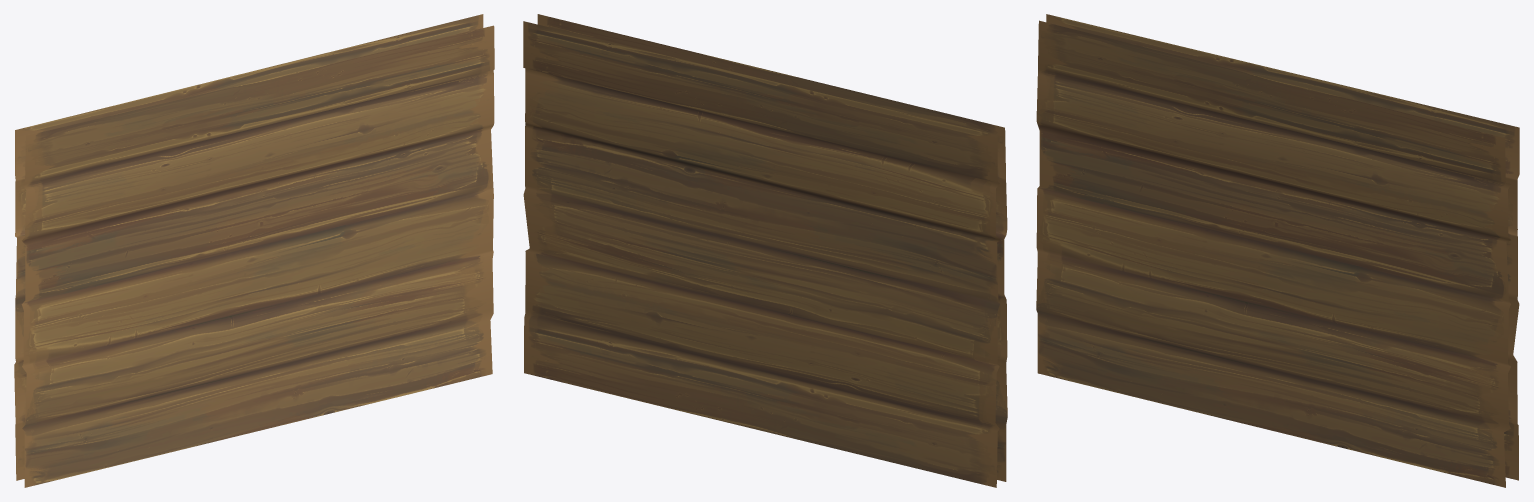
The model's file is SM_MOD_wall_standard_planks_hor_town.fbx.
3 views of the same model, side by side, from view 1: azimuth 30°, elevation 25°; view 2: azimuth 150°, elevation 25°; view 3: azimuth 330°, elevation 25° (orthographic).
Parts seen in each view (by area): view 1: SM_MOD_wall_standard_planks_hor_town; view 2: SM_MOD_wall_standard_planks_hor_town; view 3: SM_MOD_wall_standard_planks_hor_town.
Boxes of the visible parts, <box> form: SM_MOD_wall_standard_planks_hor_town: <box>14,14,494,487</box>; SM_MOD_wall_standard_planks_hor_town: <box>523,14,1007,487</box>; SM_MOD_wall_standard_planks_hor_town: <box>1036,14,1519,487</box>.
Size of the model in its own units: 390 by 278 by 18.07.
